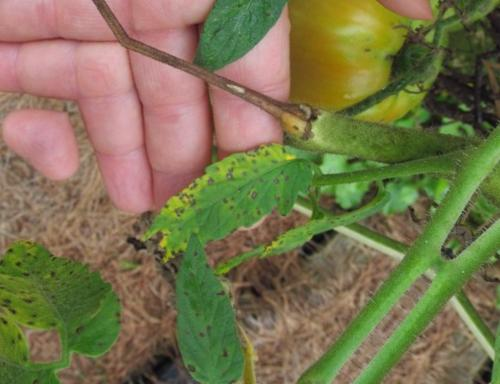Tomato Septoria leaf spot: (130, 99, 328, 306), (121, 224, 295, 384), (0, 217, 145, 376), (161, 0, 343, 88)
